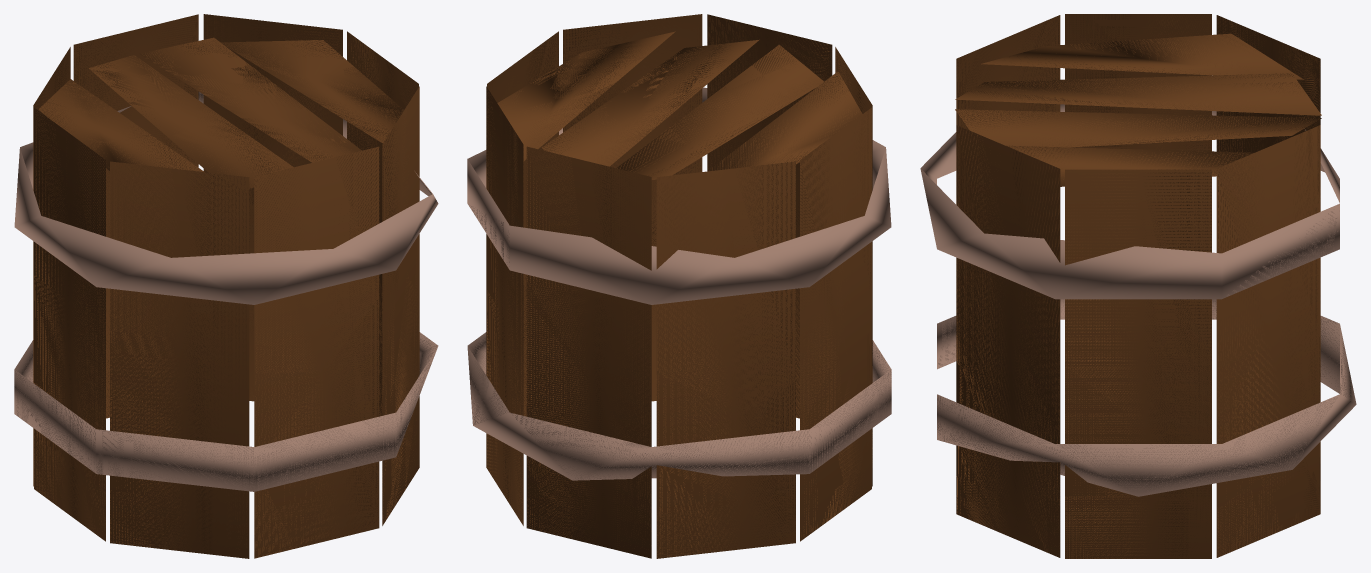
The model's file is Prop_Barrel.low.gltf.
The picture shows the model from 3 angles, left to right: view 1: azimuth 30°, elevation 25°; view 2: azimuth 150°, elevation 25°; view 3: azimuth 270°, elevation 25°; orthographic projection.
Visible parts, largest first — view 1: Prop_Barrel; view 2: Prop_Barrel; view 3: Prop_Barrel.
Part boxes in pixels (x1,y1,x2,y2): Prop_Barrel: (14,14,438,558); Prop_Barrel: (467,14,891,558); Prop_Barrel: (920,14,1356,558).
Bounding box in the file's own units: 0.6701 × 0.6599 × 0.6701.
Materials: 1 (1 with a texture image).
